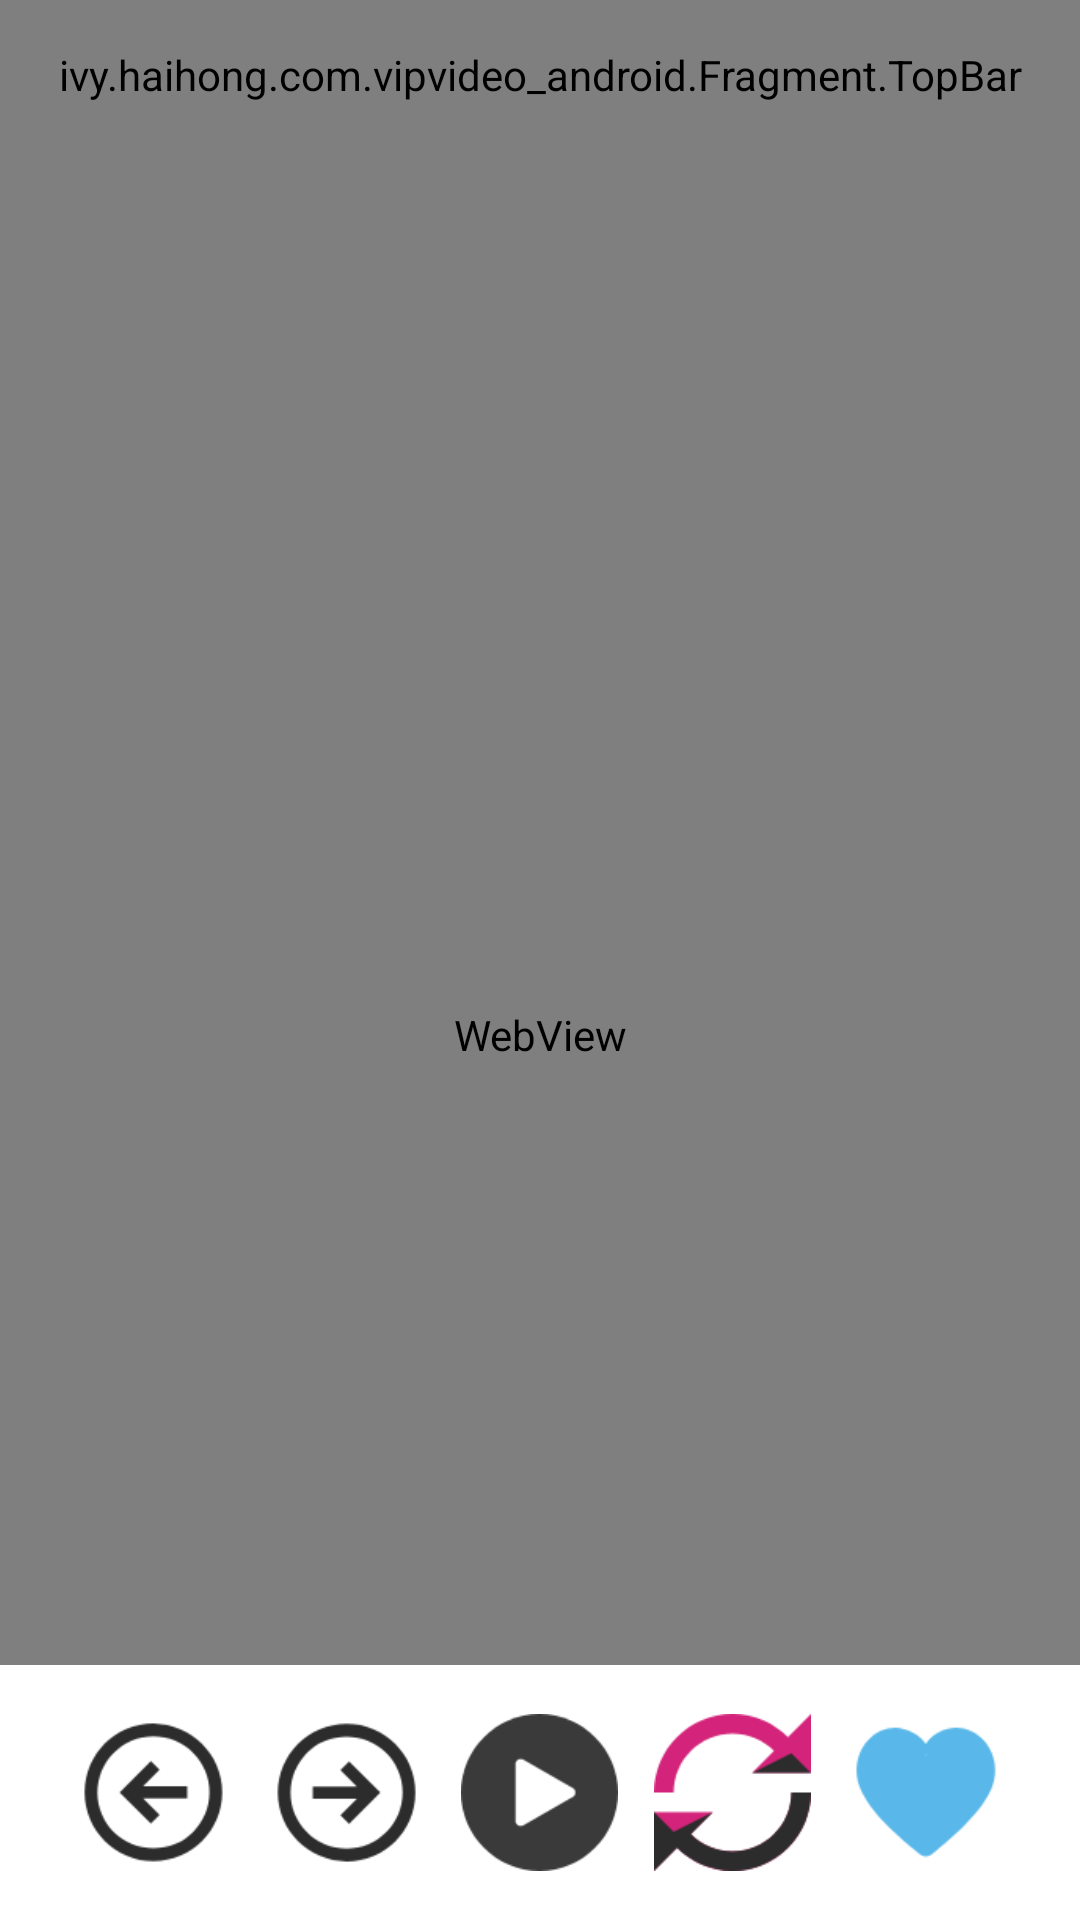

Point at icon controls on the screen. Image size 1080x1920, points as point (x, y).
web back: point (153, 1792)
web collect: point (926, 1792)
web forward: point (346, 1792)
web play: point (539, 1792)
web refresh: point (732, 1792)
